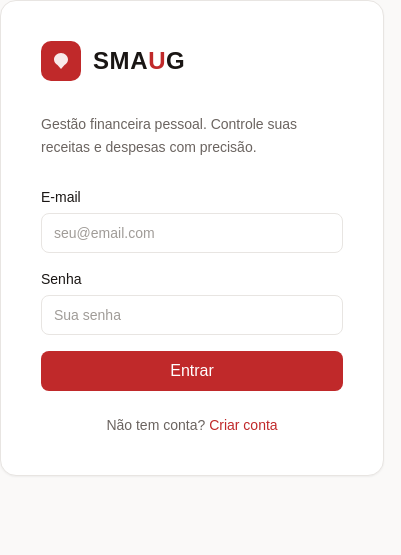
página de login › a mesma mensagem vale para um e-mail sem conta
Type "ninguem@example.com" into the field labelled "E-mail".
click(192, 232); type("ninguem@example.com")  # box [41,212,343,252]
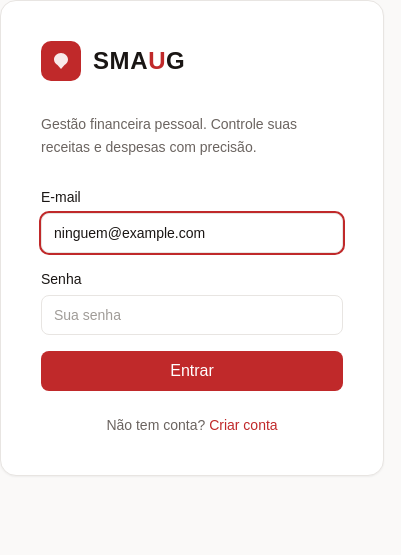
Type "senha muito segura" into the password field labelled "Senha".
click(192, 314); type("senha muito segura")  # box [41,294,343,334]
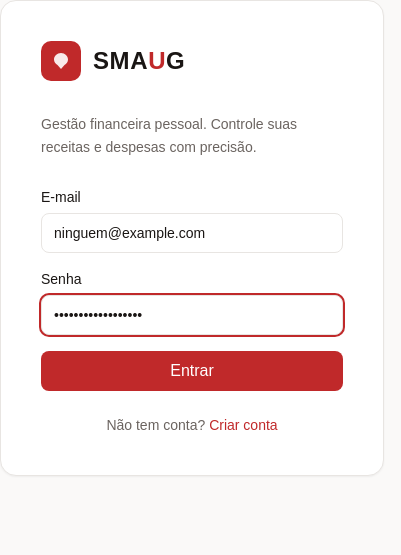
Click the button "Entrar".
click(192, 370)  # box [41,350,343,390]
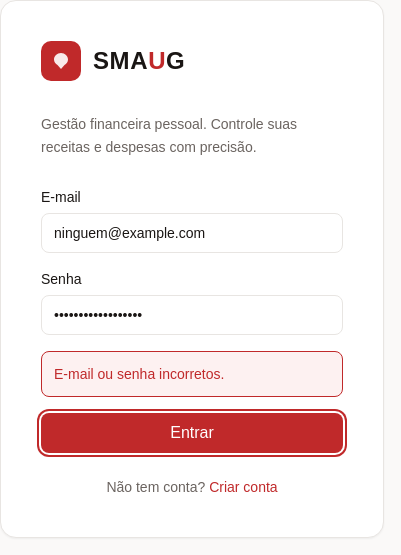
expect the text "E-mail ou senha incorretos." is shown: met, box [41,350,343,396]
